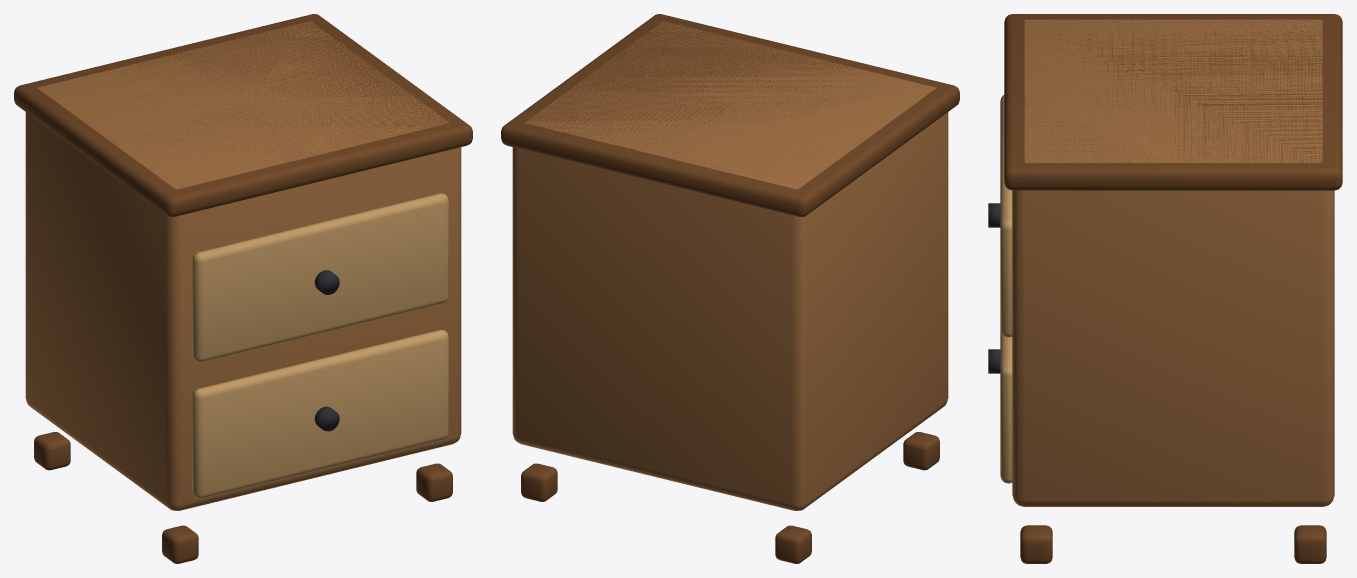
The model's file is nightstand.glb.
3 views of the same model, side by side, from view 1: azimuth 30°, elevation 25°; view 2: azimuth 150°, elevation 25°; view 3: azimuth 270°, elevation 25° (orthographic). The views are drawn at different scales.
Visible parts, largest first — view 1: nightstand; view 2: nightstand; view 3: nightstand.
Boxes of the visible parts, left/top/right/bottom form: nightstand: left=14, top=14, right=472, bottom=563; nightstand: left=501, top=14, right=959, bottom=563; nightstand: left=988, top=14, right=1342, bottom=563.
Bounding box in the file's own units: 0.47 × 0.55 × 0.44.
